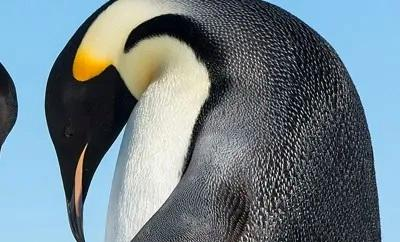Emperor Penguin: (29, 0, 398, 242), (0, 4, 27, 242)
